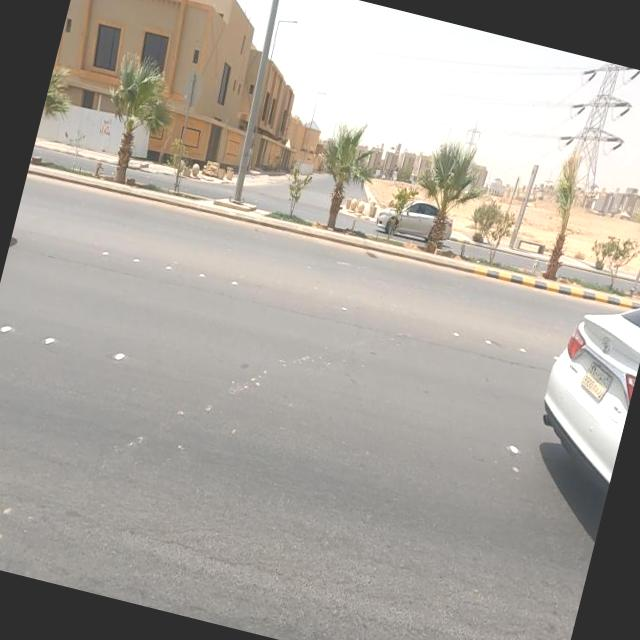debris: (78, 92, 131, 164)
